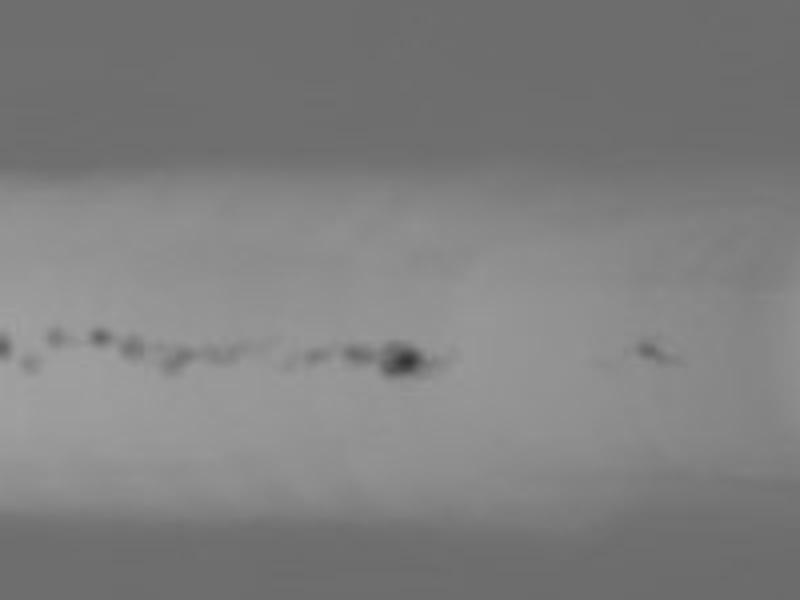defect: (381, 341, 425, 376), (199, 347, 239, 365), (343, 344, 373, 367), (302, 348, 333, 370), (120, 335, 143, 363), (87, 324, 111, 347), (17, 353, 44, 373), (44, 325, 65, 349), (636, 339, 658, 359), (274, 354, 298, 371), (160, 356, 177, 376), (174, 348, 193, 364), (1, 335, 11, 361)
